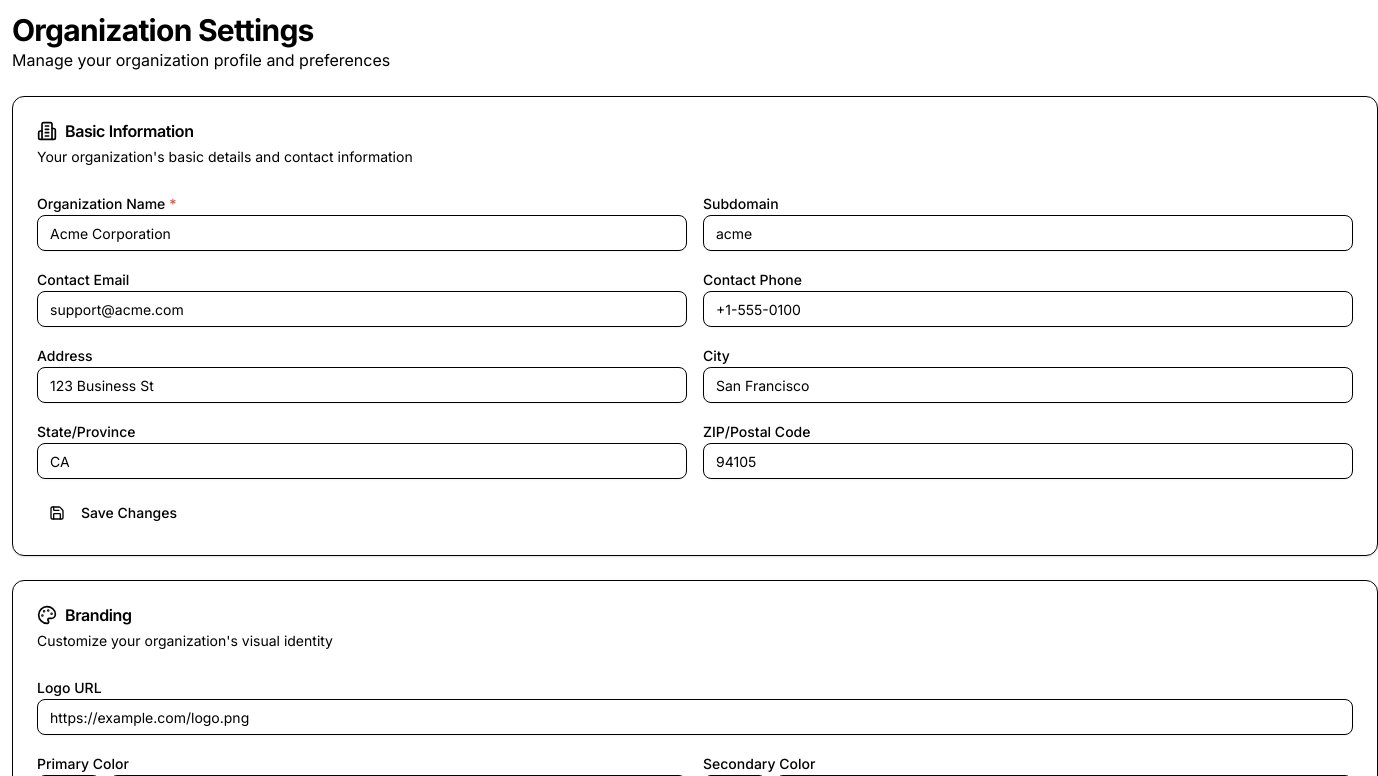
OrganizationSettings › Validation › should validate required fields
Clear the field labelled "Organization Name*" at x=362, y=233, box 37,215 -> 687,251
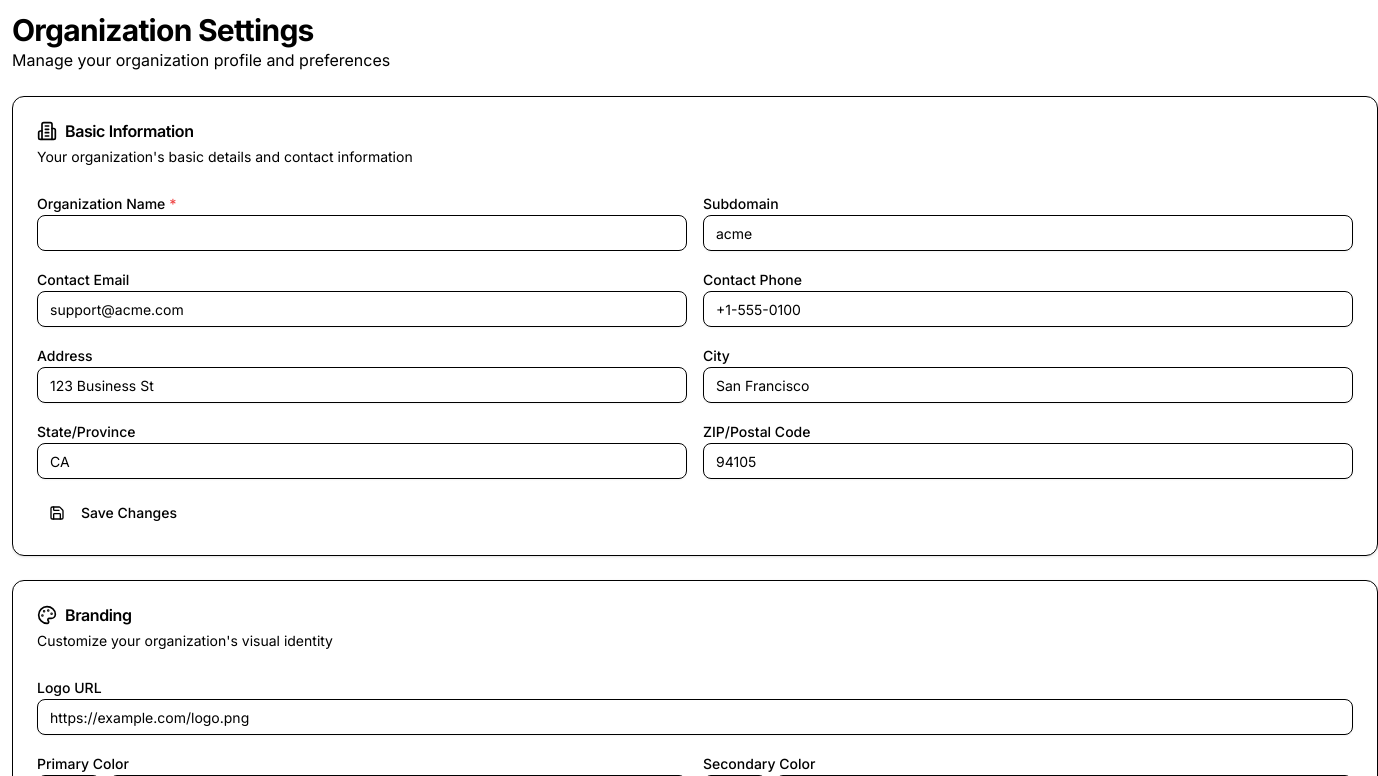
Click the button "Save Changes" at x=113, y=513, box 37,495 -> 189,531
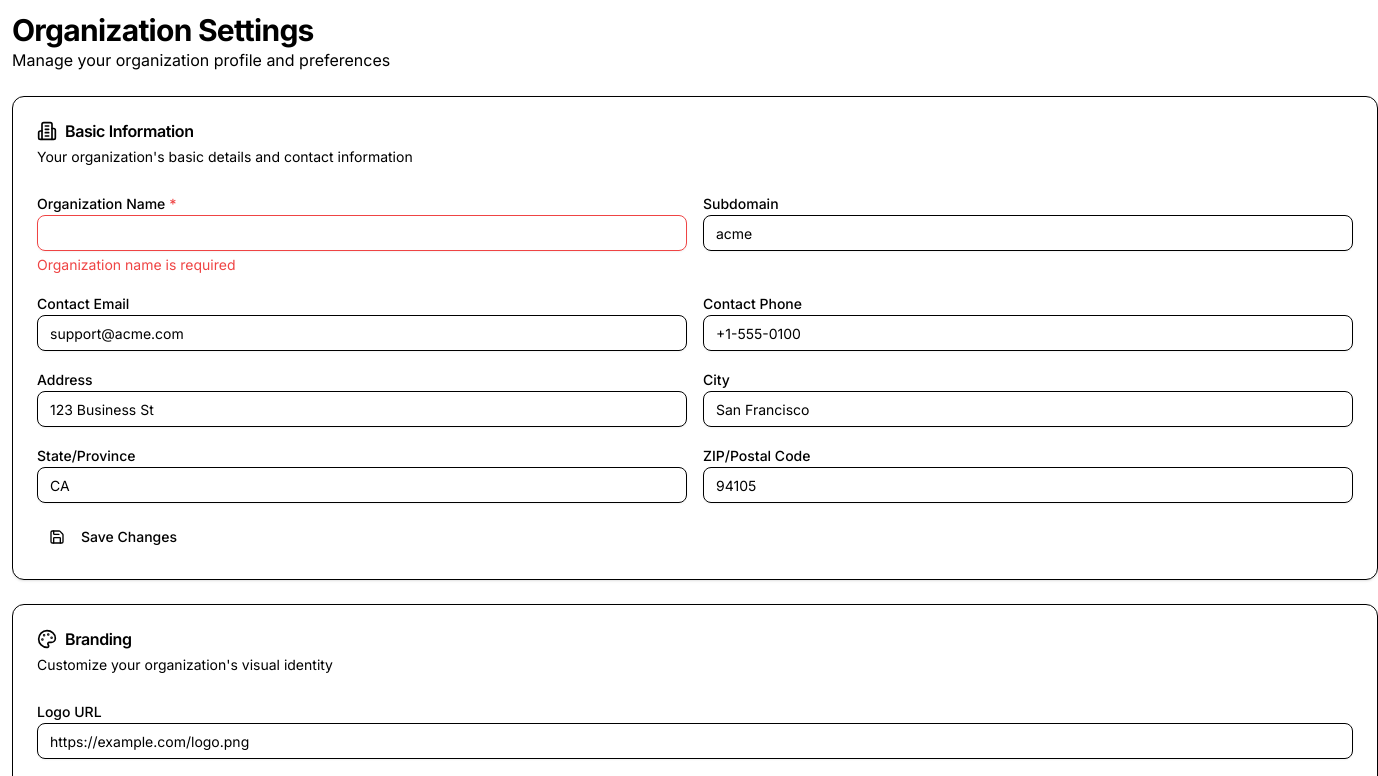
expect the text "Organization name is required" is shown: met, box 37,256 -> 236,273
